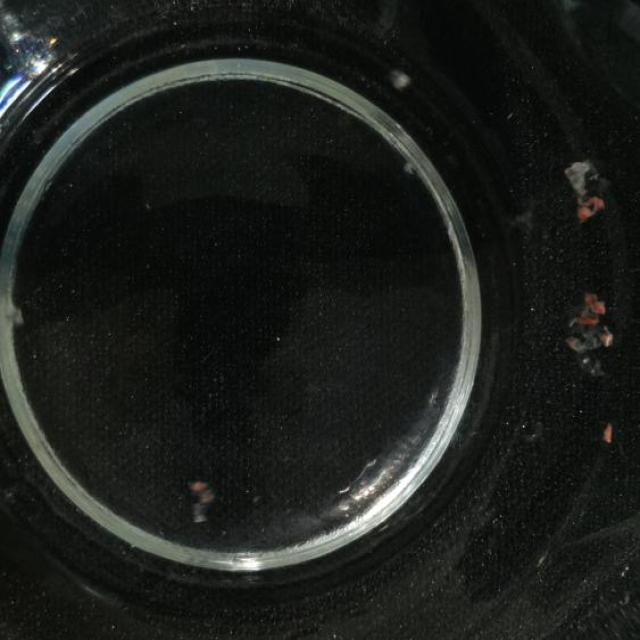fiber: (558, 293, 620, 381), (558, 152, 610, 220), (188, 476, 220, 530), (386, 61, 418, 99), (5, 294, 28, 331), (596, 420, 618, 450)
